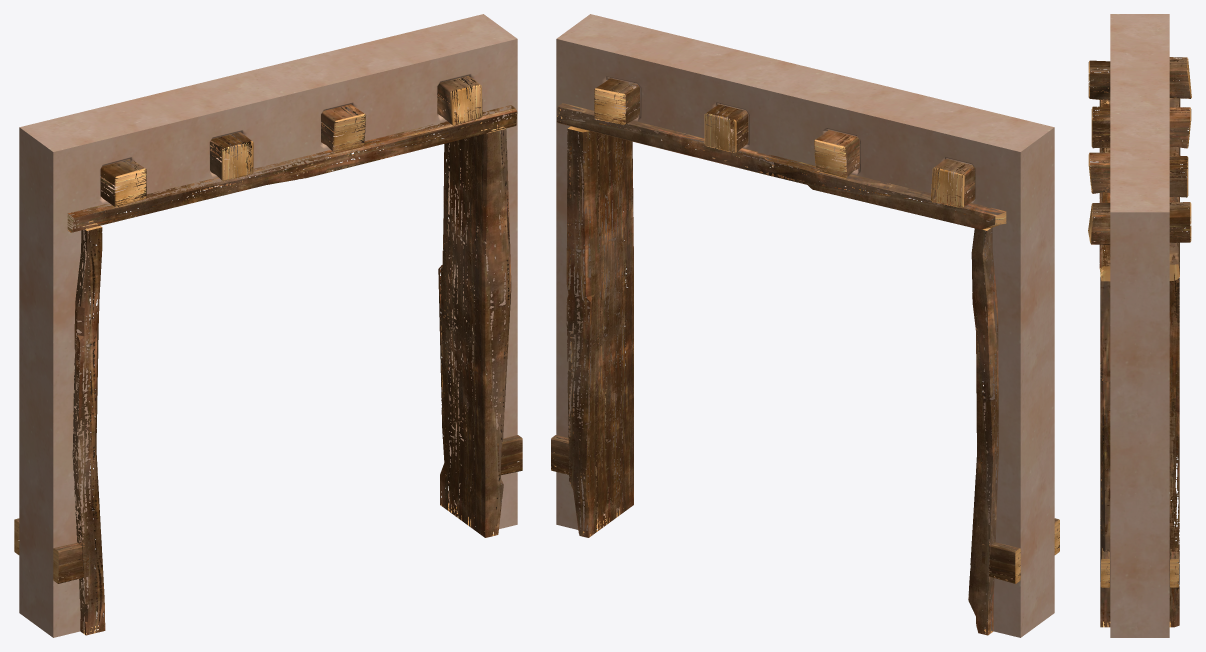
3 views of the same model, side by side, from view 1: azimuth 30°, elevation 25°; view 2: azimuth 150°, elevation 25°; view 3: azimuth 270°, elevation 25° (orthographic). The views are drawn at different scales.
Visible parts, largest first — view 1: SM_BB_T4_Wall_Doorframe_Double_LOD0; view 2: SM_BB_T4_Wall_Doorframe_Double_LOD0; view 3: SM_BB_T4_Wall_Doorframe_Double_LOD0.
Part boxes in pixels (x1,y1,x2,y2): SM_BB_T4_Wall_Doorframe_Double_LOD0: (14, 14, 522, 637); SM_BB_T4_Wall_Doorframe_Double_LOD0: (551, 14, 1059, 637); SM_BB_T4_Wall_Doorframe_Double_LOD0: (1088, 14, 1191, 637).
Bounding box in the file's own units: 3 × 3 × 0.6636.
2 materials, 2 textured.
